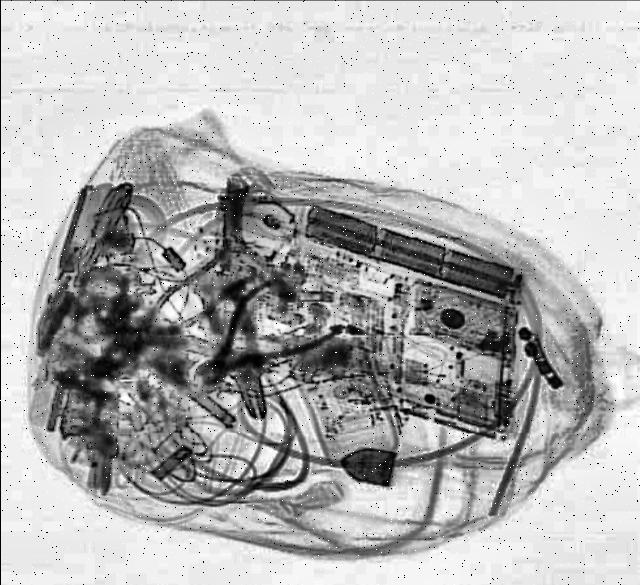Pliers: (166, 265, 344, 409), (90, 252, 250, 372), (191, 273, 279, 423)
